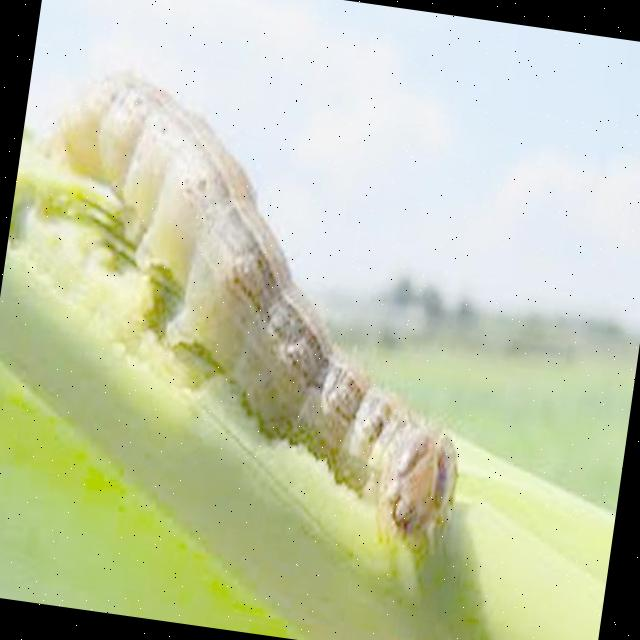worm: (1, 57, 511, 578)
